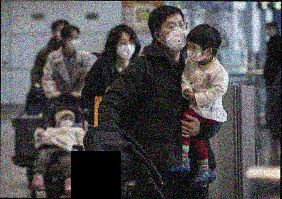with_mask: (161, 18, 188, 52), (115, 36, 136, 61), (184, 40, 205, 62), (66, 34, 82, 51), (59, 115, 75, 128)
